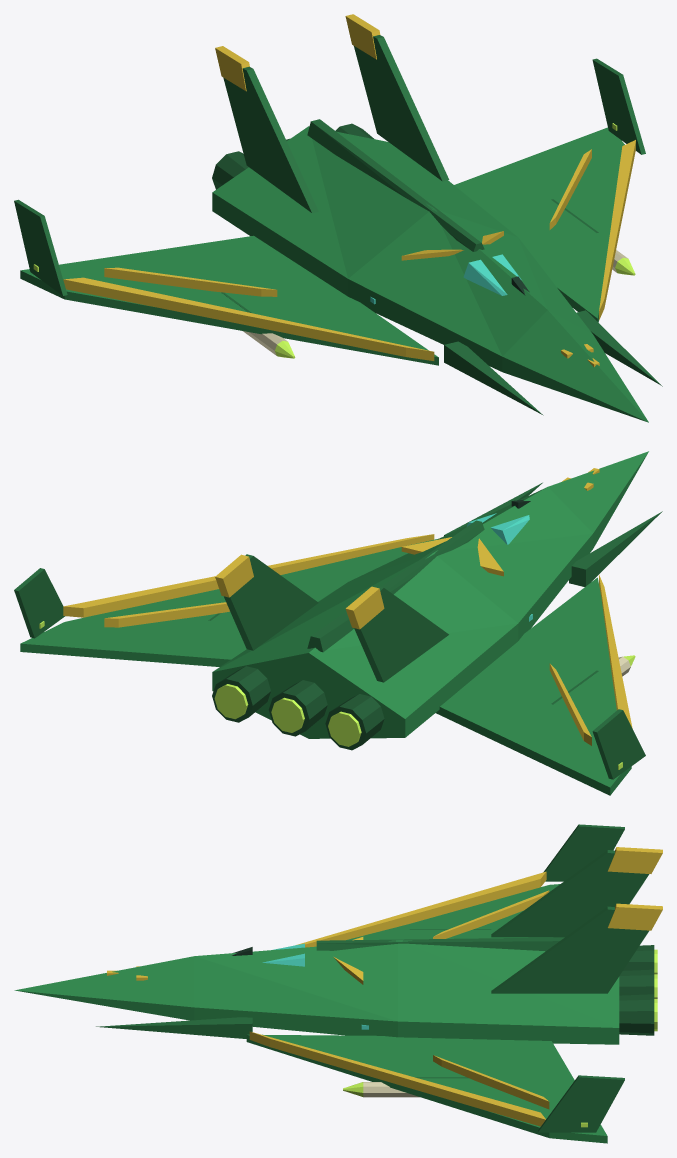
Rendered from ordos.obj.
The picture shows the model from 3 angles, top to bottom: view 1: azimuth 30°, elevation 25°; view 2: azimuth 150°, elevation 25°; view 3: azimuth 270°, elevation 25°; orthographic projection. The views are drawn at different scales.
Parts seen in each view (by area): view 1: корпус, крыло, киль, кромка, законцовка, хребет, клык, полоса_крыла, киль,_кромка, двигатель, кабина, шеврон; view 2: корпус, крыло, киль, кромка, двигатель, законцовка, сопло, хребет, полоса_крыла, клык, киль,_кромка, шеврон (+1 smaller); view 3: корпус, крыло, киль, кромка, законцовка, двигатель, киль,_кромка, полоса_крыла, хребет, клык, ракетная_гондола.
Part boxes in pixels (bbox=[...]): корпус: bbox=[212, 126, 648, 422]; крыло: bbox=[20, 127, 624, 365]; киль: bbox=[223, 35, 449, 213]; кромка: bbox=[63, 140, 635, 360]; законцовка: bbox=[14, 58, 645, 295]; хребет: bbox=[307, 119, 484, 251]; клык: bbox=[444, 310, 662, 415]; полоса_крыла: bbox=[104, 149, 591, 296]; киль,_кромка: bbox=[215, 14, 380, 91]; двигатель: bbox=[212, 123, 373, 189]; кабина: bbox=[463, 254, 521, 295]; шеврон: bbox=[401, 231, 503, 260]; корпус: bbox=[212, 451, 648, 738]; крыло: bbox=[20, 538, 631, 795]; киль: bbox=[224, 554, 448, 682]; кромка: bbox=[63, 534, 632, 728]; двигатель: bbox=[212, 666, 384, 750]; законцовка: bbox=[14, 568, 645, 779]; сопло: bbox=[214, 684, 361, 746]; хребет: bbox=[307, 520, 484, 652]; полоса_крыла: bbox=[104, 602, 591, 745]; клык: bbox=[444, 482, 662, 586]; киль,_кромка: bbox=[215, 554, 384, 629]; шеврон: bbox=[401, 537, 503, 576]; корпус: bbox=[14, 940, 619, 1044]; крыло: bbox=[246, 884, 607, 1143]; киль: bbox=[491, 850, 649, 993]; кромка: bbox=[249, 871, 546, 1126]; законцовка: bbox=[538, 824, 624, 1132]; двигатель: bbox=[619, 945, 654, 1035]; киль,_кромка: bbox=[607, 847, 662, 930]; полоса_крыла: bbox=[433, 890, 549, 1109]; хребет: bbox=[316, 937, 564, 951]; клык: bbox=[96, 1017, 252, 1038]; ракетная_гондола: bbox=[363, 1082, 419, 1097].
Size of the model in its own units: 10.4 by 2.85 by 11.15.
